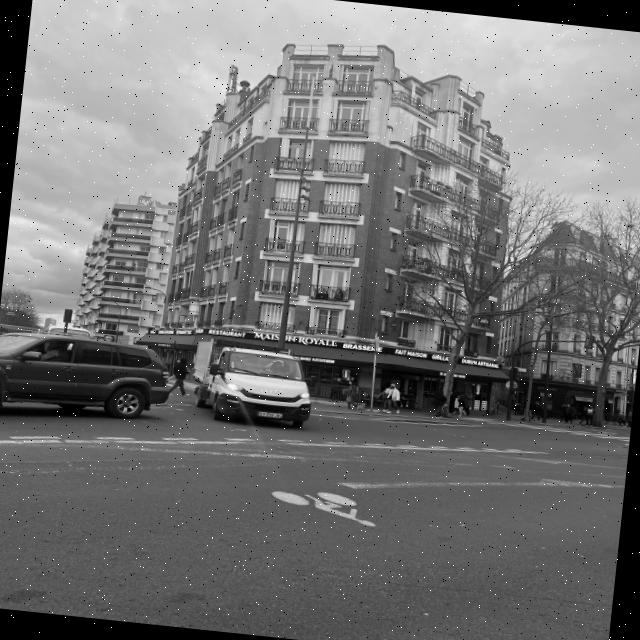Autre: (246, 408, 291, 422)
